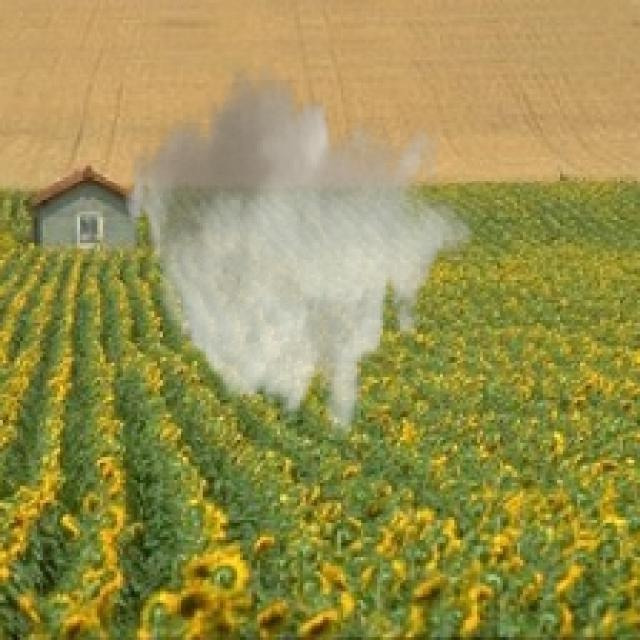Smoke: (120, 57, 474, 446)
